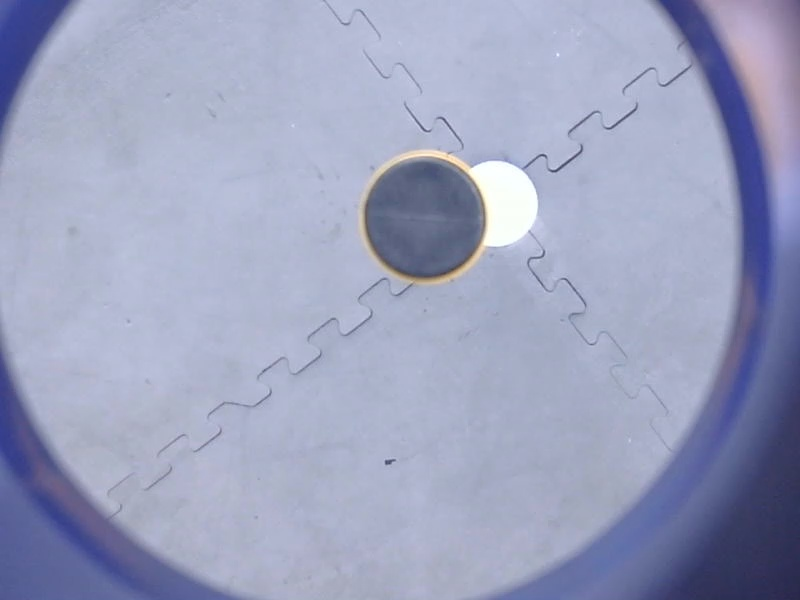tip: (345, 143, 499, 297)
